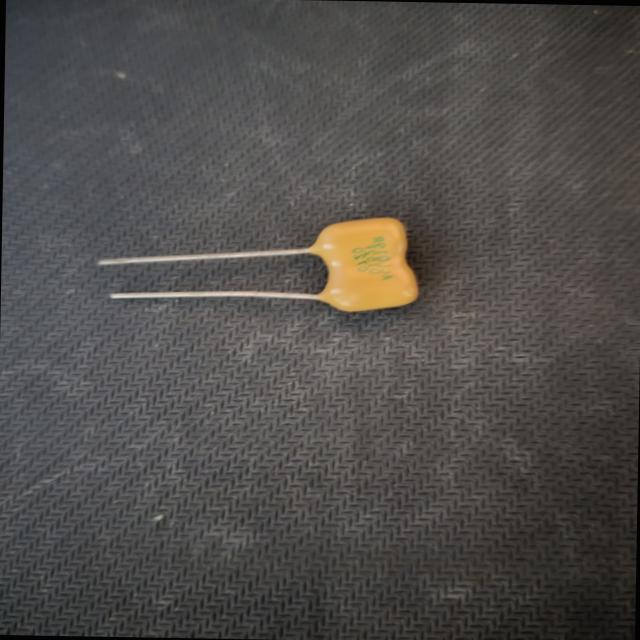resistor: (78, 201, 430, 332)
